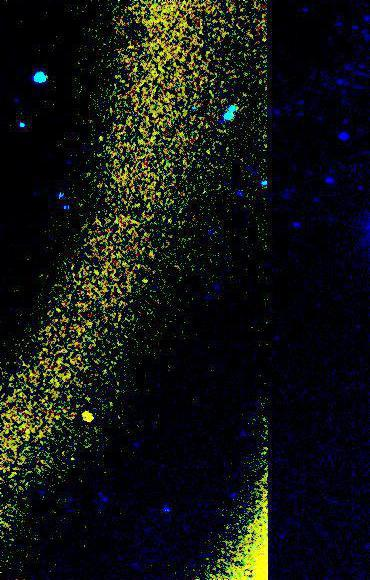star: (71, 402, 101, 432)
